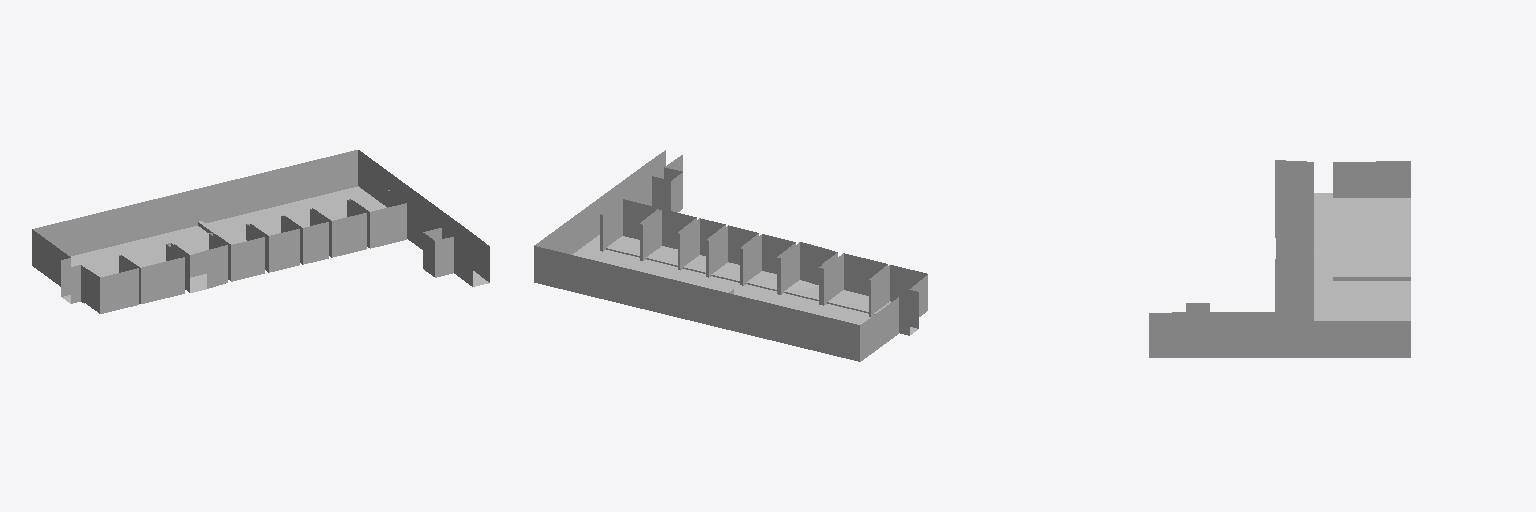
Rendered from flooplan_thesisCapstone.obj.
3 views of the same model, side by side, from view 1: azimuth 30°, elevation 25°; view 2: azimuth 150°, elevation 25°; view 3: azimuth 270°, elevation 25° (orthographic).
Parts seen in each view (by area): view 1: flooplan_thesisCapstone; view 2: flooplan_thesisCapstone; view 3: flooplan_thesisCapstone.
Part boxes in pixels (left/top/right/bottom): flooplan_thesisCapstone: left=32, top=150, right=489, bottom=313; flooplan_thesisCapstone: left=534, top=150, right=927, bottom=361; flooplan_thesisCapstone: left=1149, top=160, right=1410, bottom=357.
Bounding box in the file's own units: 189 × 21.6 × 128.